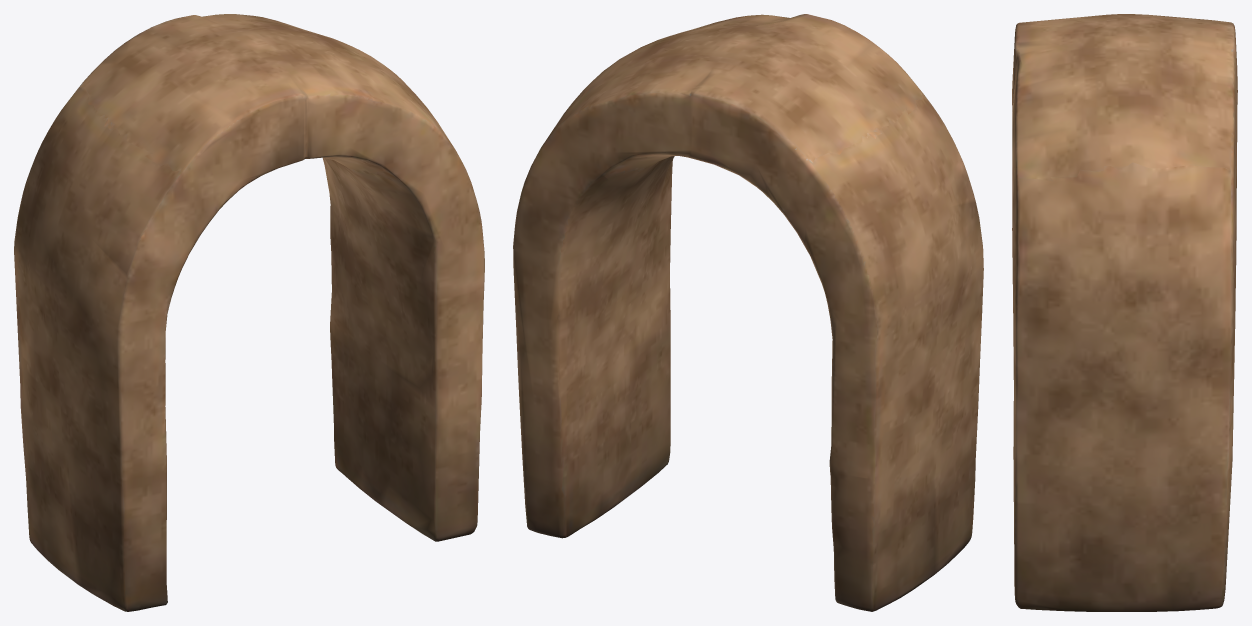
Rendered from chipped-sandstone-street-arch-v001.glb.
3 views of the same model, side by side, from view 1: azimuth 30°, elevation 25°; view 2: azimuth 150°, elevation 25°; view 3: azimuth 270°, elevation 25° (orthographic).
Visible parts, largest first — view 1: chipped-sandstone-street-arch; view 2: chipped-sandstone-street-arch; view 3: chipped-sandstone-street-arch.
Part boxes in pixels (x1,y1,x2,y2): chipped-sandstone-street-arch: (14,14,484,611); chipped-sandstone-street-arch: (513,14,983,611); chipped-sandstone-street-arch: (1012,14,1237,611).
Bounding box in the file's own units: 3.23 × 3.97 × 1.65.
1 material, 1 textured.
